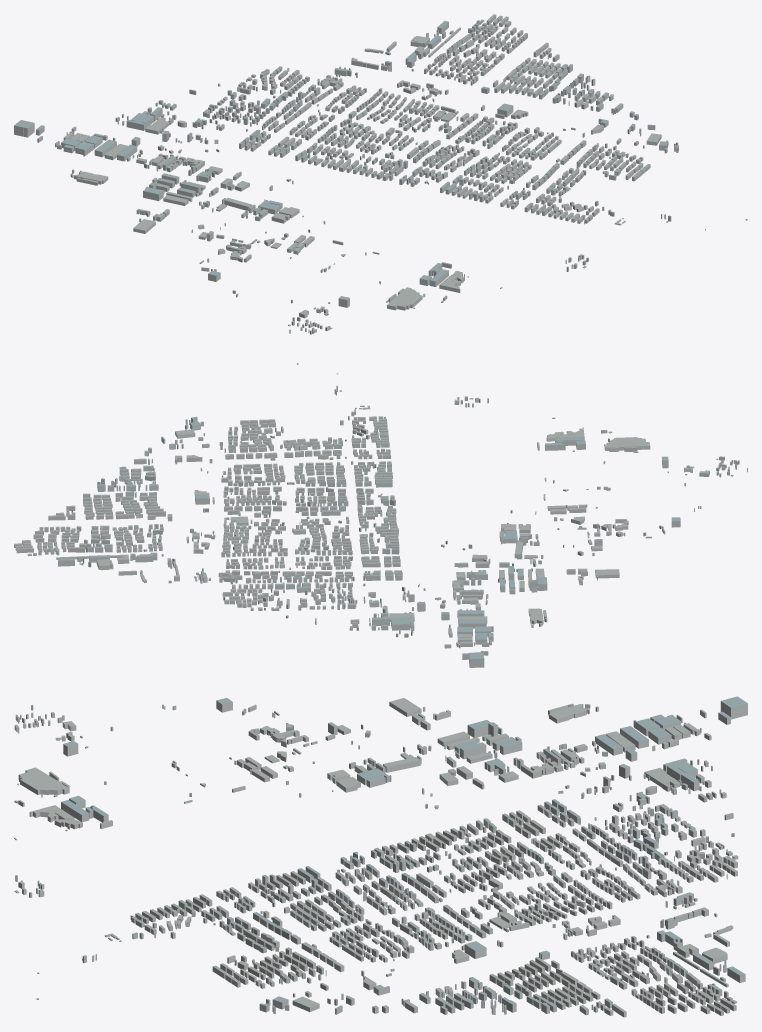
Rendered from far.glb.
3 renders of one model, top to bottom at view 1: azimuth 30°, elevation 25°; view 2: azimuth 150°, elevation 25°; view 3: azimuth 270°, elevation 25°, orthographic. The views are drawn at different scales.
Size of the model in its own units: 2152 by 37.59 by 2115.
